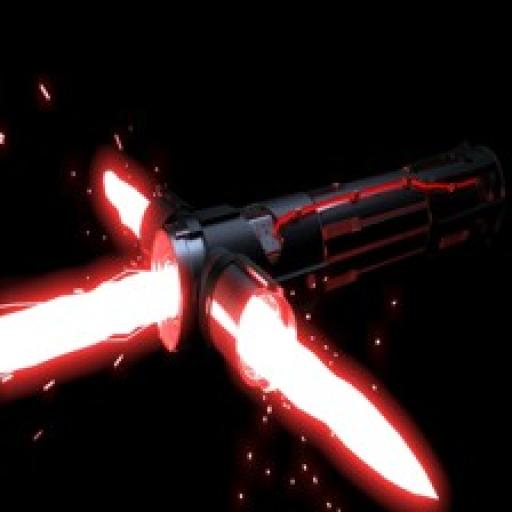sith saber: (0, 126, 510, 502)
